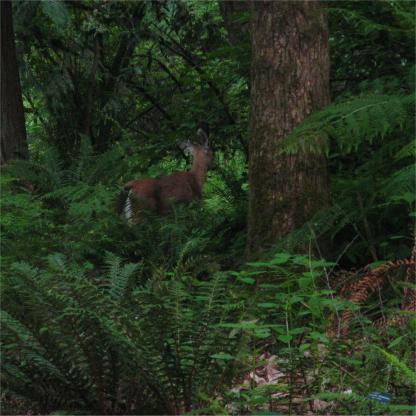Deer: (114, 134, 226, 224)
